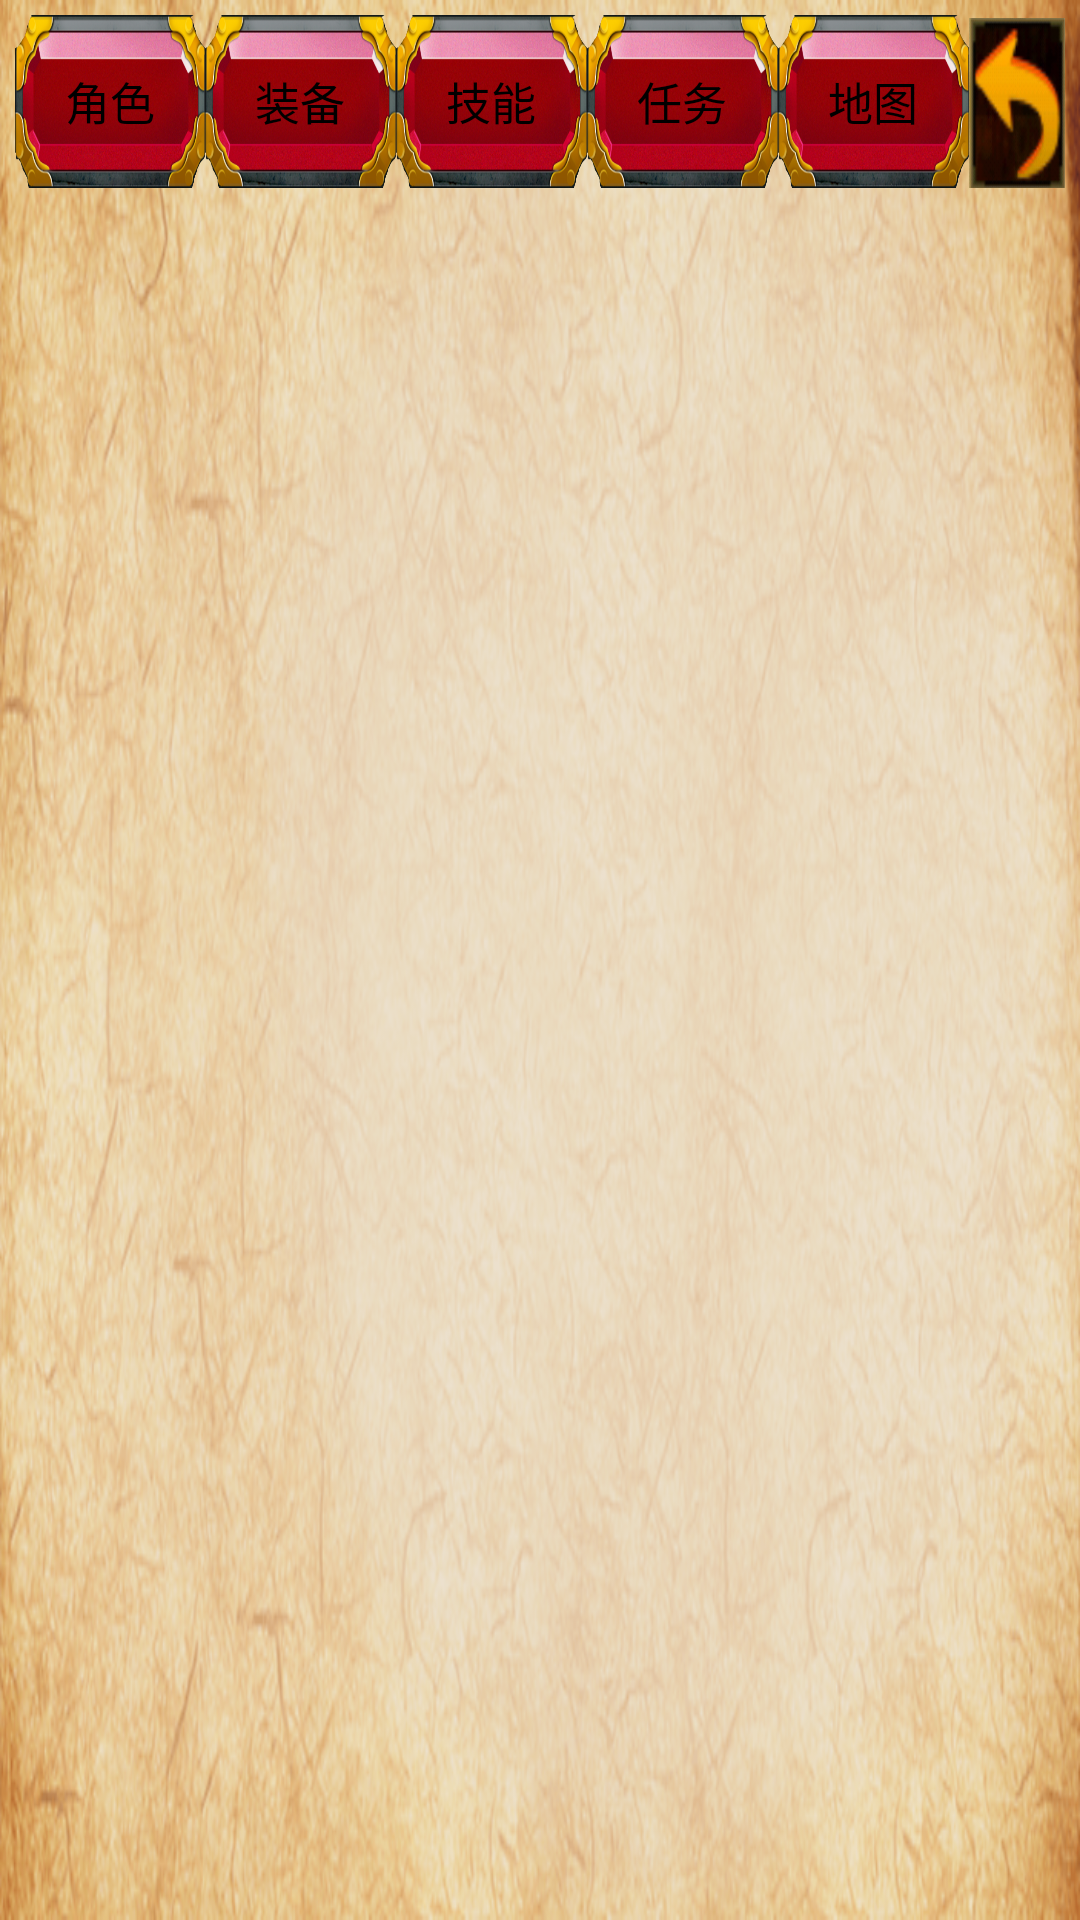

Icons on this 1080px x 1920px Android screen, each with the point to tap as (x,y):
back: (1017,103)
